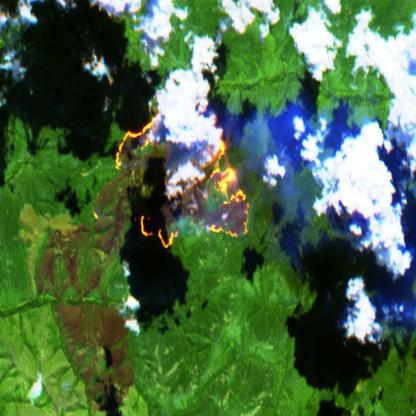fire: (115, 92, 254, 259)
